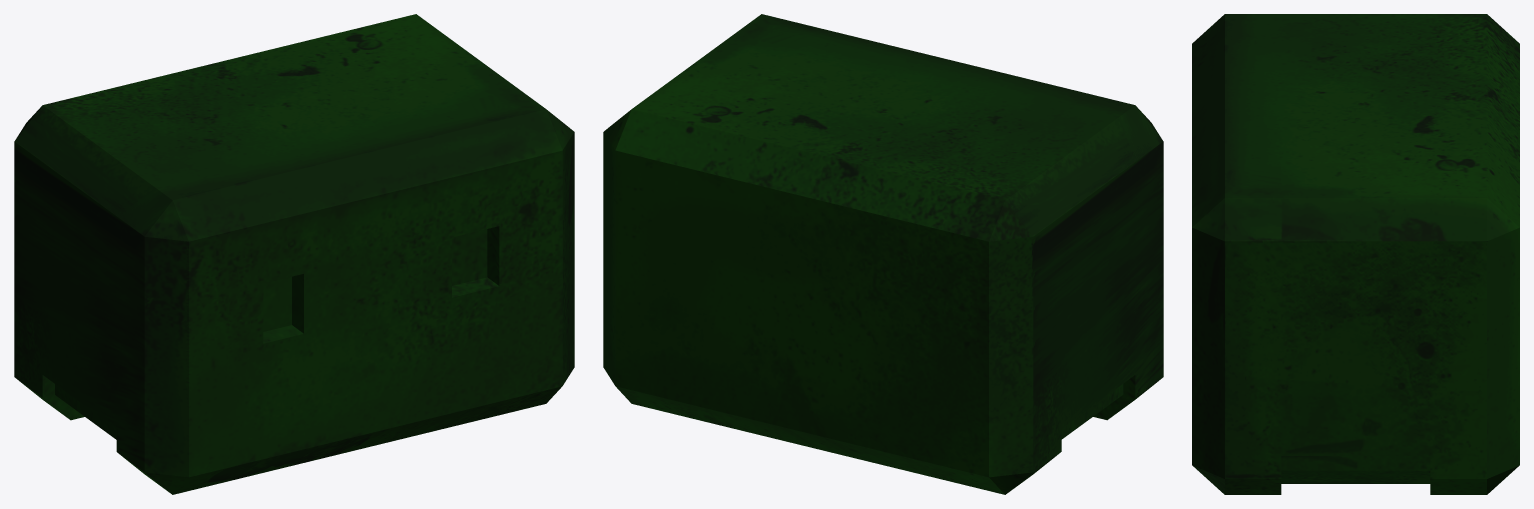
Rendered from Green Box.fbx.
The picture shows the model from 3 angles, left to right: view 1: azimuth 30°, elevation 25°; view 2: azimuth 150°, elevation 25°; view 3: azimuth 270°, elevation 25°; orthographic projection.
Parts seen in each view (by area): view 1: pCube1; view 2: pCube1; view 3: pCube1.
Boxes of the visible parts, x1,y1,x2,y2 form: pCube1: (14,14,574,494); pCube1: (603,14,1163,494); pCube1: (1192,14,1519,494).
Bounding box in the file's own units: 8.63 × 5.65 × 5.65.
1 material, 1 textured.
